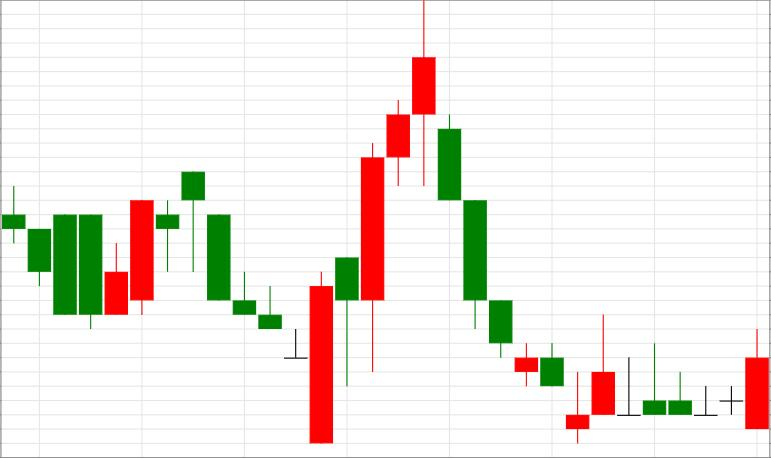three_black_crows_fall: (309, 1, 513, 444)
